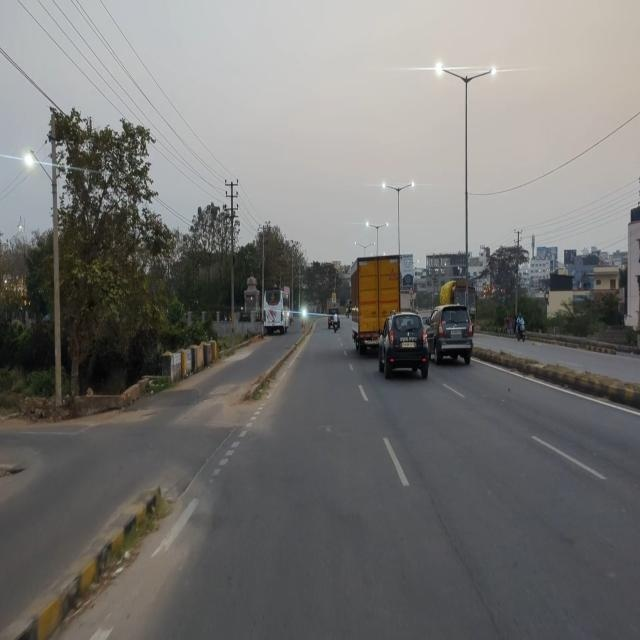bien_nguy_hiem: (408, 284, 414, 296)
